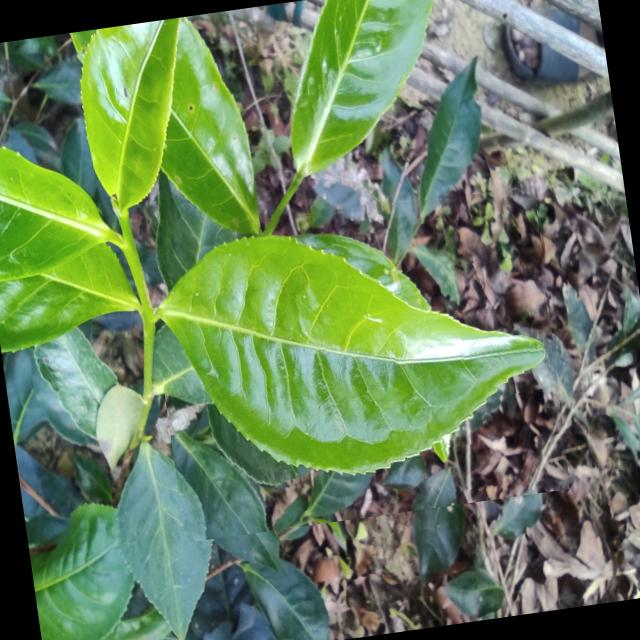Category D(7+ days, Not for Tea): (143, 180, 576, 542)
